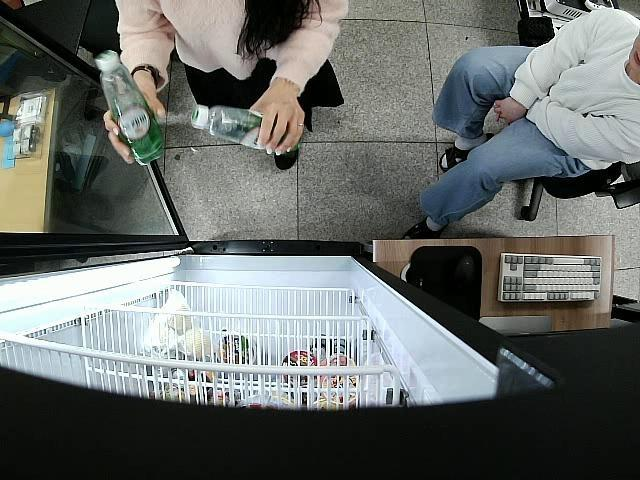18_trevi: (96, 50, 166, 164), (190, 106, 304, 153)
